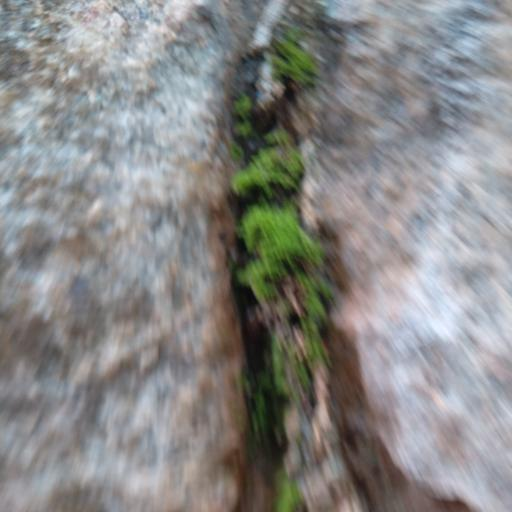algae: (209, 34, 396, 492)
